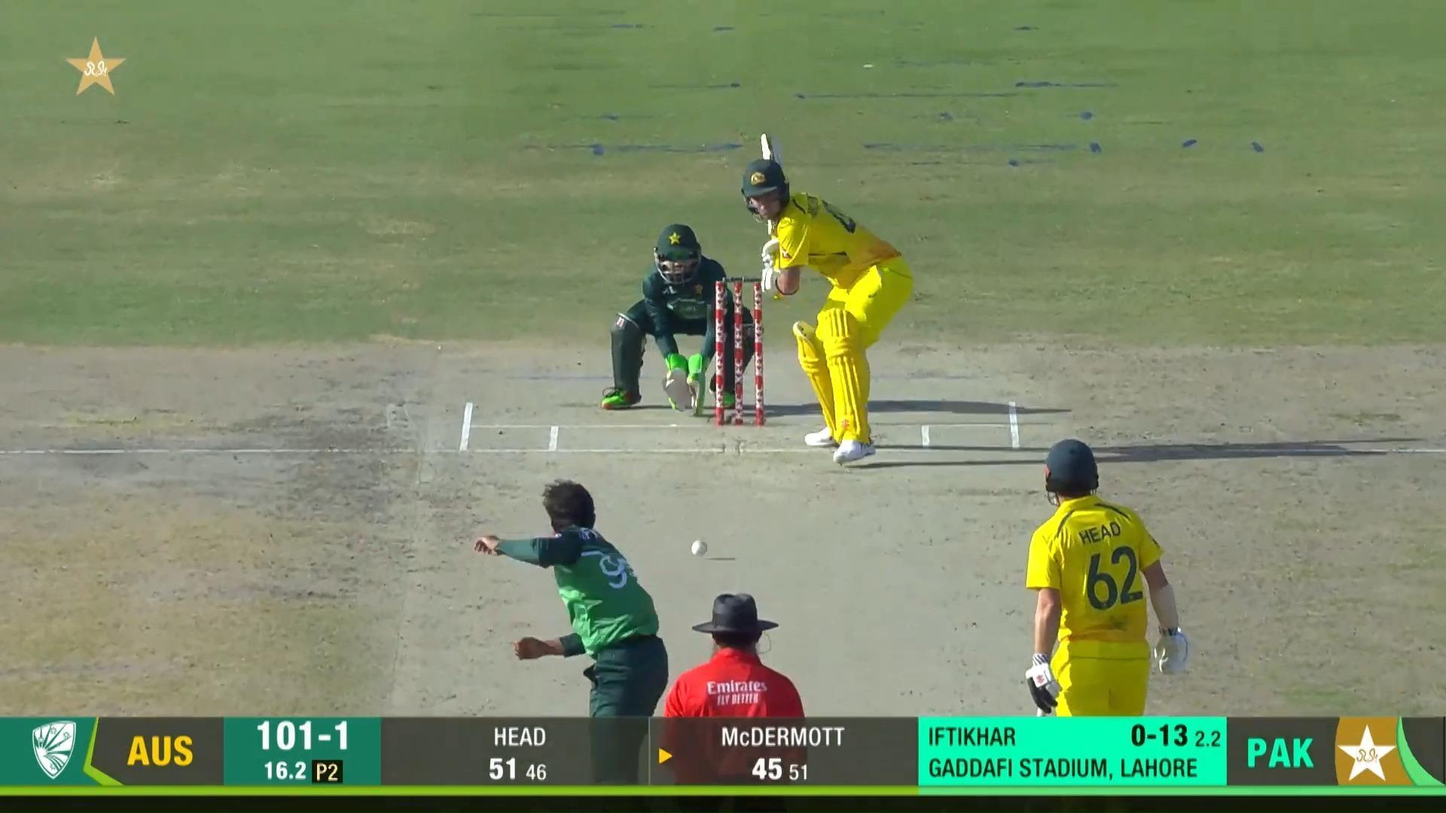BM 1: (740, 129, 914, 464)
BO: (473, 476, 670, 791)
